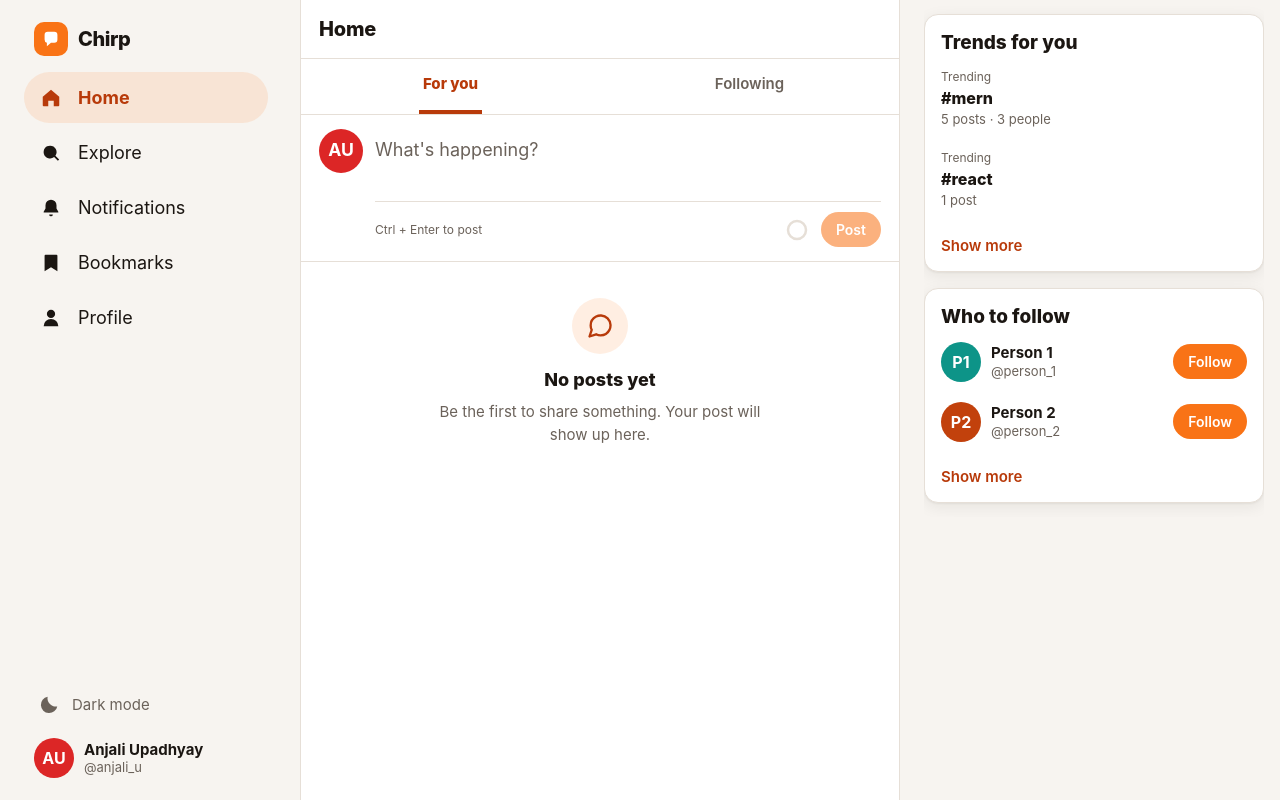
Test: right sidebar (live data on every page) › shows trends and suggestions, and Follow works from the sidebar
The width and height of the screenshot is (1280, 800).
Check: the text "#mern" is shown, box [941,88,993,108]
Check: the text "5 posts · 3 people" is shown, box [941,110,1051,126]
Click the button with aria-label "Follow @person_1": (1210, 362) [1173,344,1247,379]
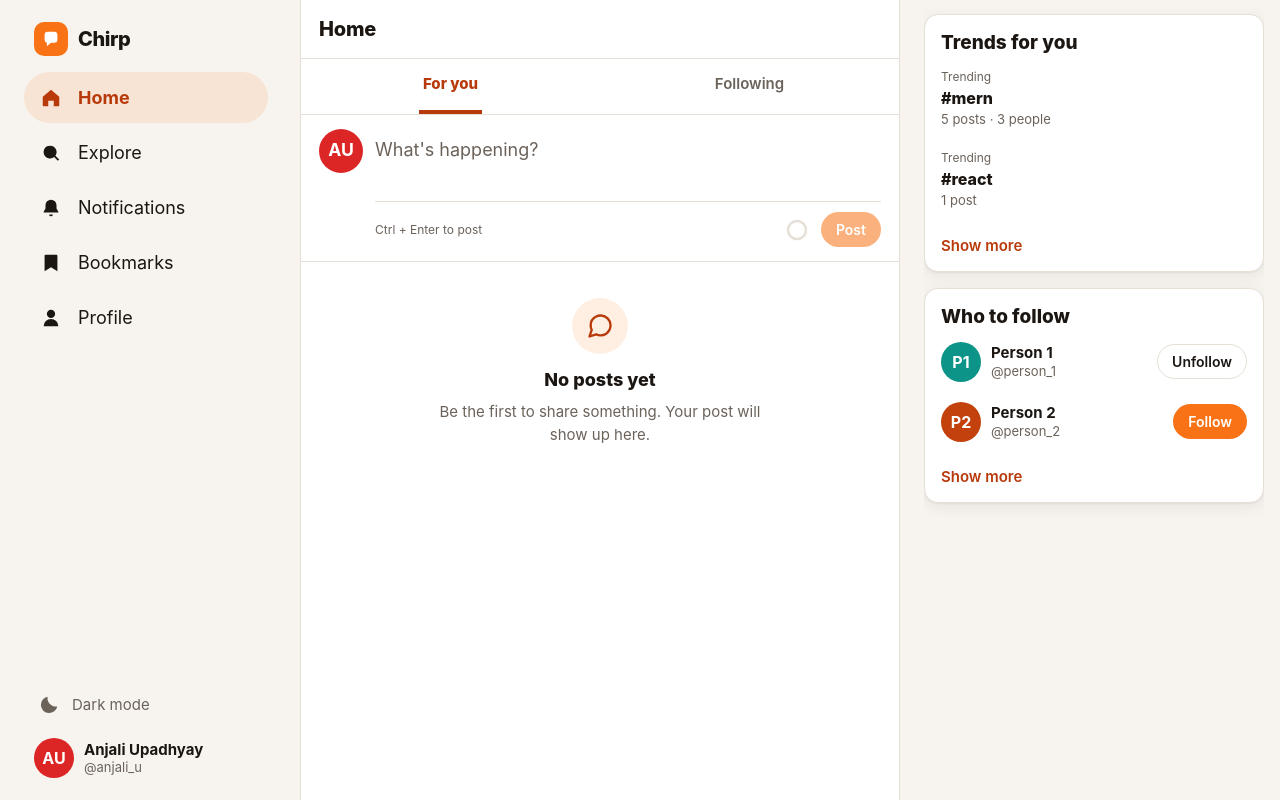
Check: the button with aria-label "Unfollow @person_1" is shown, box [1157,344,1247,379]
